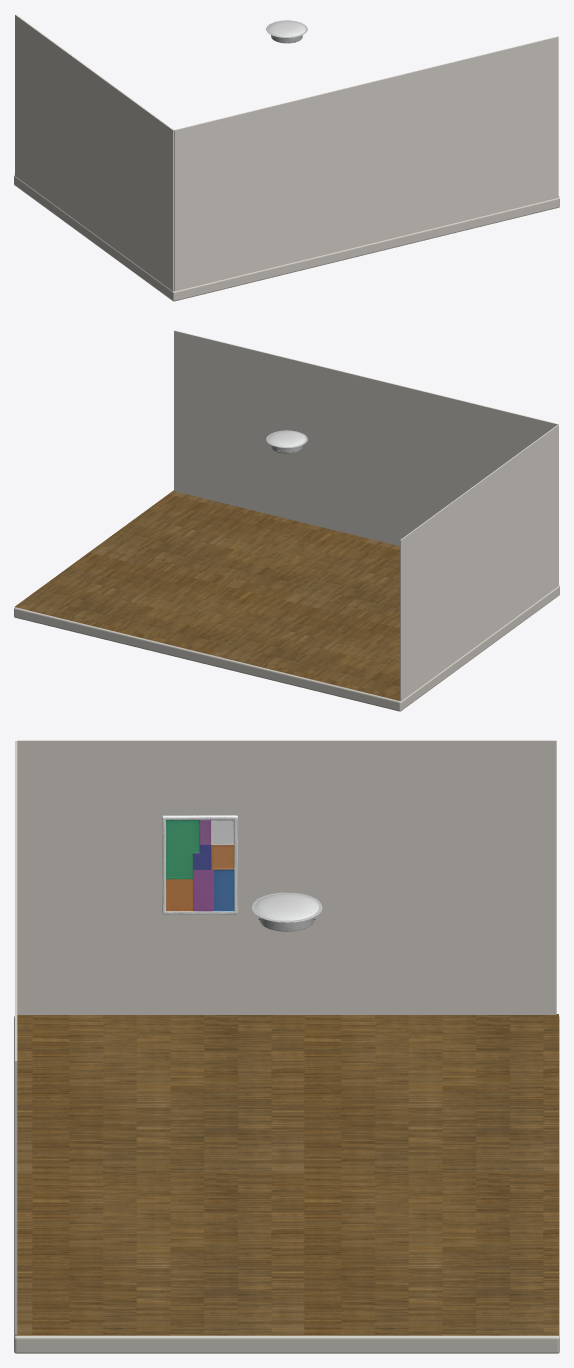
Rendered from livingroom-attached.glb.
The picture shows the model from 3 angles, top to bottom: view 1: azimuth 30°, elevation 25°; view 2: azimuth 150°, elevation 25°; view 3: azimuth 270°, elevation 25°; orthographic projection. The views are drawn at different scales.
Parts seen in each view (by area): view 1: wall_north_01, wall_east_01, Display foundation, central_ceiling_light_01_mesh; view 2: wall_north_01, floor_01, wall_east_01, Display foundation, central_ceiling_light_01_mesh; view 3: floor_01, wall_east_01, Display foundation, east_wall_poster_01_mesh, central_ceiling_light_01_mesh, wall_north_01.
Boxes of the visible parts, <box> form: wall_north_01: <box>174,36,558,291</box>; wall_east_01: <box>15,14,173,291</box>; Display foundation: <box>14,175,559,301</box>; central_ceiling_light_01_mesh: <box>266,20,307,43</box>; wall_north_01: <box>174,330,558,546</box>; floor_01: <box>15,490,400,700</box>; wall_east_01: <box>400,424,558,701</box>; Display foundation: <box>14,585,559,711</box>; central_ceiling_light_01_mesh: <box>266,430,307,453</box>; floor_01: <box>15,1014,558,1335</box>; wall_east_01: <box>17,740,556,1014</box>; Display foundation: <box>14,1016,559,1353</box>; east_wall_poster_01_mesh: <box>162,815,237,914</box>; central_ceiling_light_01_mesh: <box>251,892,322,931</box>; wall_north_01: <box>15,741,17,1335</box>.
Bounding box in the file's own units: 7.02 × 2.96 × 5.02.
5 materials, 3 textured.
